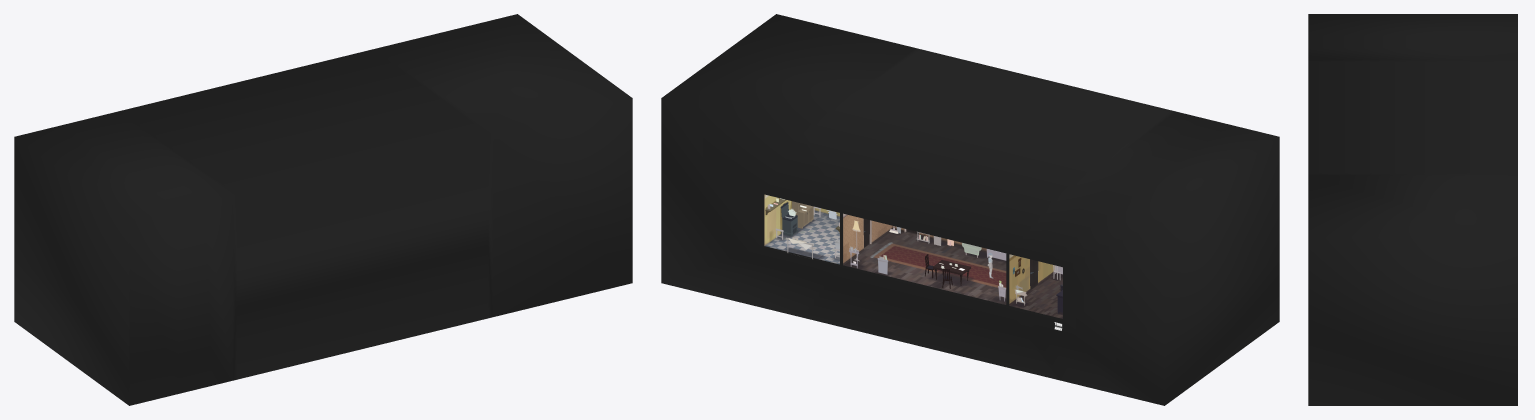
Rendered from torn_away_-_new_home_interior.glb.
3 renders of one model, left to right at view 1: azimuth 30°, elevation 25°; view 2: azimuth 150°, elevation 25°; view 3: azimuth 270°, elevation 25°, orthographic. The views are drawn at different scales.
Visible parts, largest first — view 1: newHome_roomKitchen; view 2: newHome_roomKitchen; view 3: newHome_roomKitchen.
Part boxes in pixels (x1,y1,x2,y2): newHome_roomKitchen: (14,14,632,405); newHome_roomKitchen: (661,14,1279,405); newHome_roomKitchen: (1308,14,1517,405).
Bounding box in the file's own units: 8.45 × 2.95 × 3.37.
Materials: 73 (68 with a texture image).
